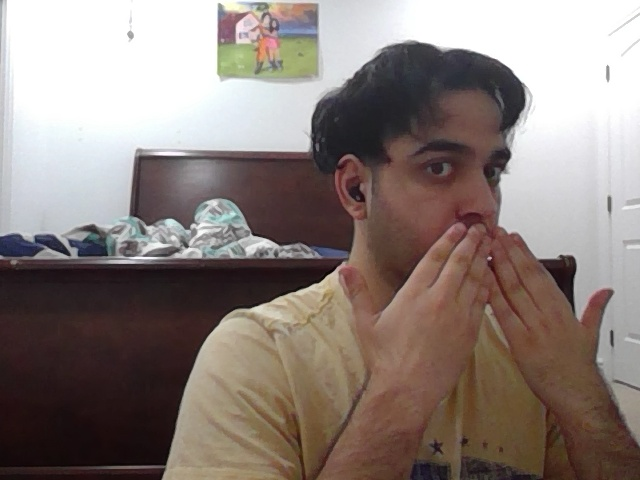Thank you: (341, 227, 623, 392)
